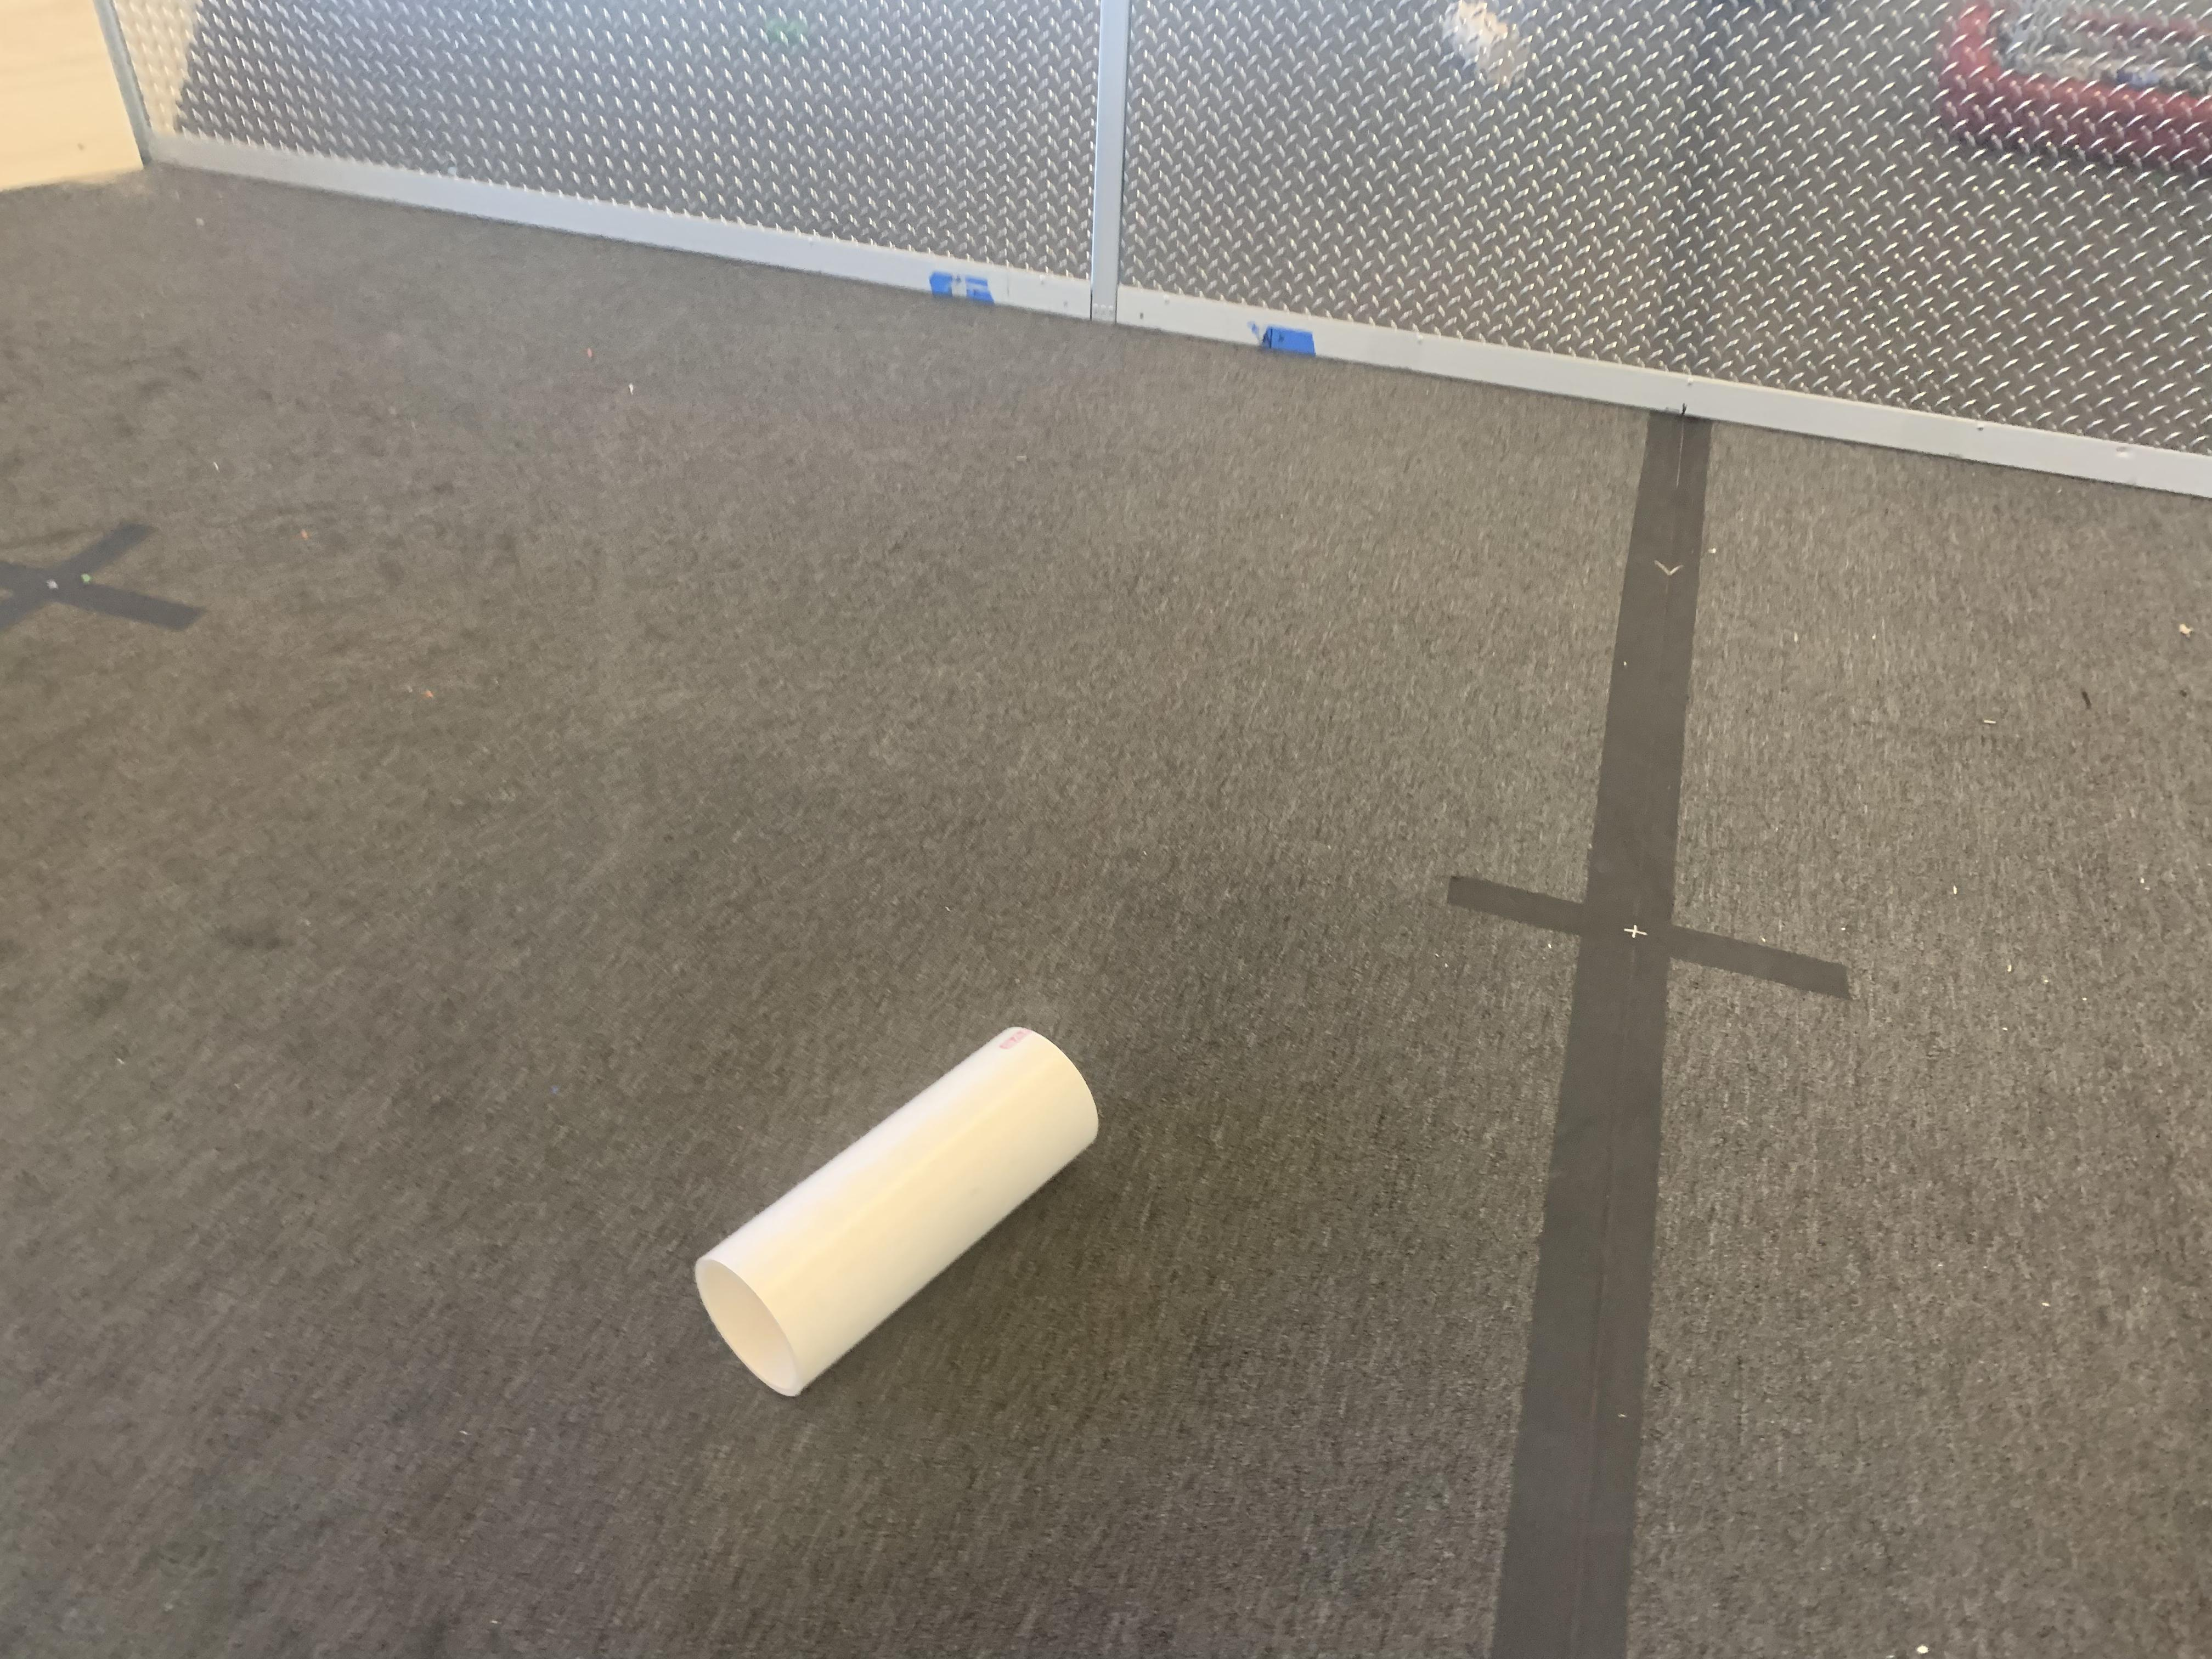coral: (688, 1019, 1103, 1399)
